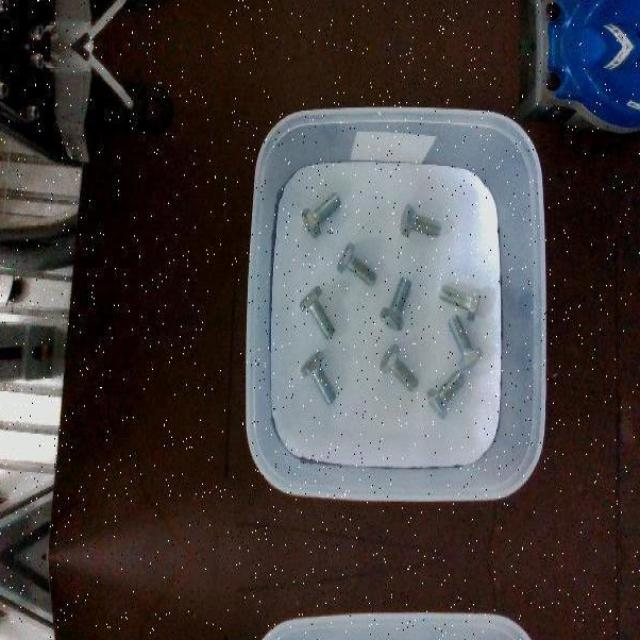screw: (379, 342, 419, 392), (300, 350, 336, 405), (427, 368, 467, 417), (299, 285, 335, 339), (447, 315, 482, 370), (379, 276, 412, 332), (301, 192, 341, 238), (336, 242, 376, 286), (439, 285, 483, 322), (400, 203, 442, 237)
